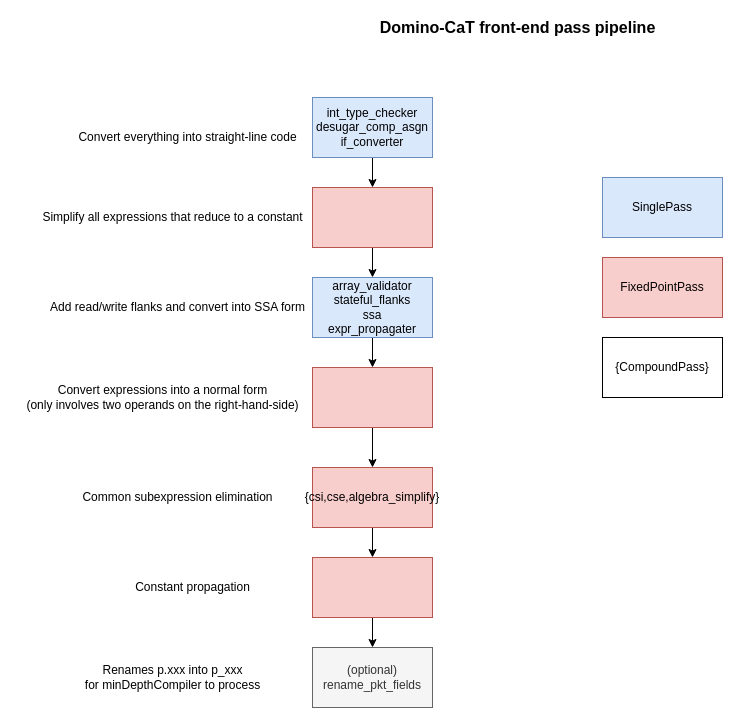
This 740x725 diagram has some shape labels left out. The shapes that lost their labels are listed below. From the top down, each one's box as (x1, y1, x2, y2) in pixels, then its label:
(312, 186, 432, 248): algebra_simplify
(312, 366, 432, 428): expr_flattener
(312, 556, 432, 618): {const_prop,algebra_simplify}
